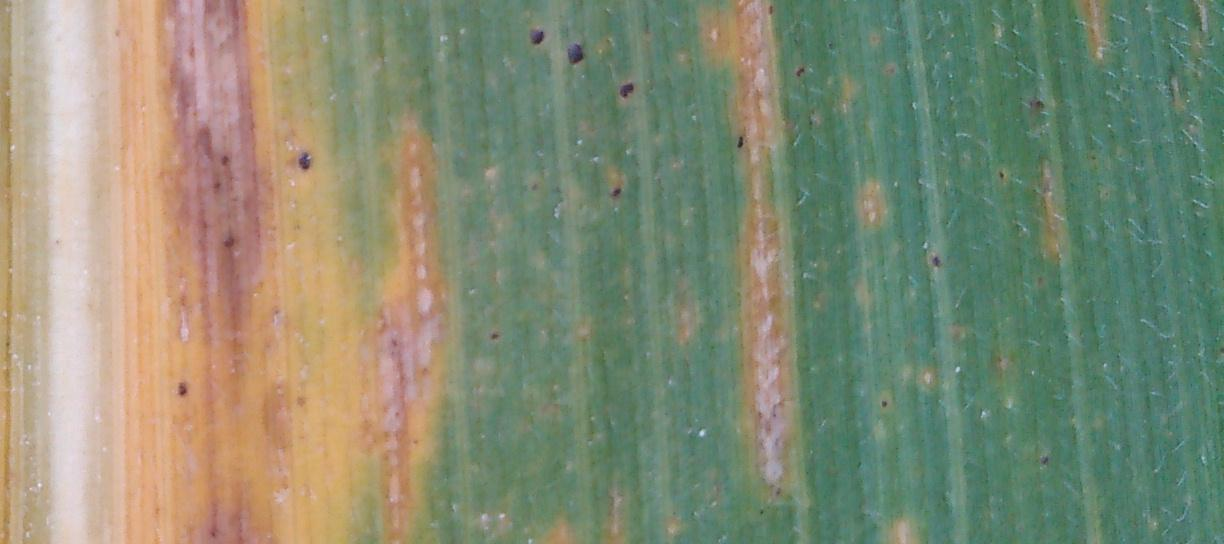tarspot: (563, 39, 585, 69), (293, 148, 315, 174), (526, 22, 546, 49), (929, 249, 947, 278), (614, 78, 639, 98), (1028, 98, 1052, 118), (730, 131, 748, 152), (991, 165, 1011, 183), (174, 379, 191, 399), (222, 231, 239, 250), (486, 328, 505, 345), (1035, 452, 1054, 469), (764, 2, 779, 23), (217, 151, 232, 171), (526, 176, 543, 193), (791, 63, 809, 79), (608, 182, 623, 201), (874, 397, 891, 412), (885, 60, 900, 75), (210, 175, 223, 192), (826, 38, 836, 52), (755, 506, 766, 516)
